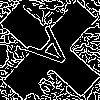A: (25, 25, 82, 81)
